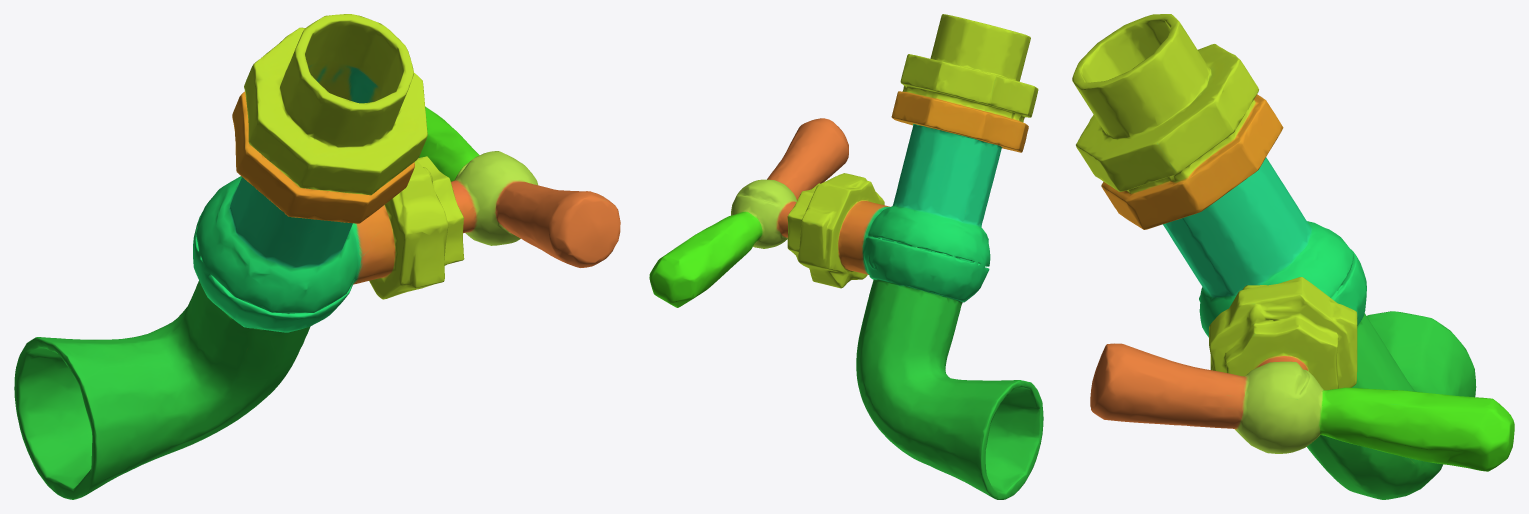
Rendered from faucet.glb.
3 views of the same model, side by side, from view 1: azimuth 30°, elevation 25°; view 2: azimuth 150°, elevation 25°; view 3: azimuth 270°, elevation 25° (orthographic). The views are drawn at different scales.
Parts seen in each view (by area): view 1: world; view 2: world; view 3: world.
Part boxes in pixels (<box>): world: <box>14,14,620,499</box>; world: <box>649,14,1043,499</box>; world: <box>1072,14,1514,499</box>.
Bounding box in the file's own units: 0.8869 × 1 × 0.7719.
1 material, 1 textured.
